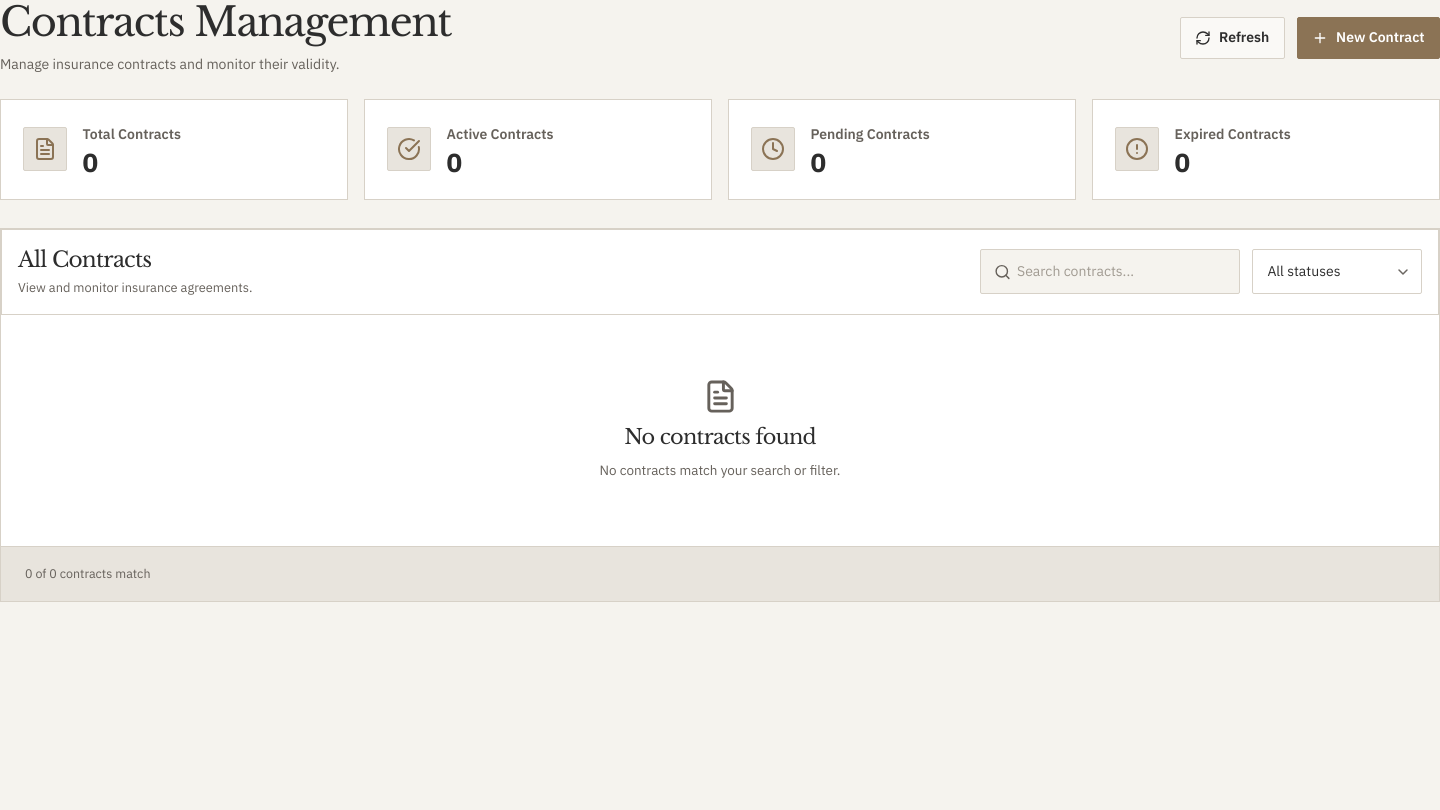
Scenario: an agent submits the new contract form and refreshes the list
Click the button "New Contract": [1368, 38] box [1297,17,1439,59]
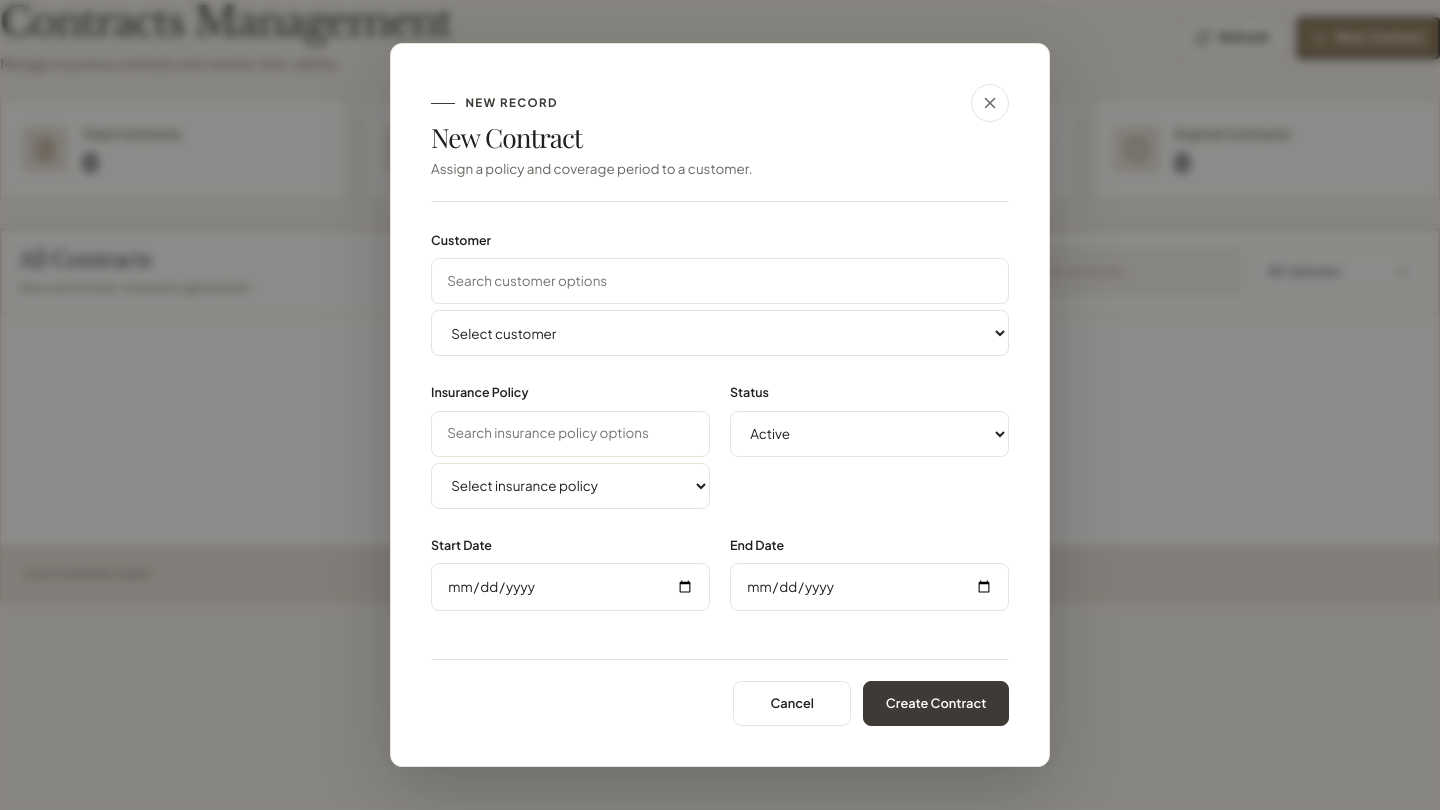
Select "Sam Martin (sam@example.test)" in the dropdown labelled "Customer": [720, 333] box [431,310,1009,356]
Select "Road cover — 500.00 MAD" in the dropdown labelled "Insurance Policy": [570, 486] box [431,463,710,509]
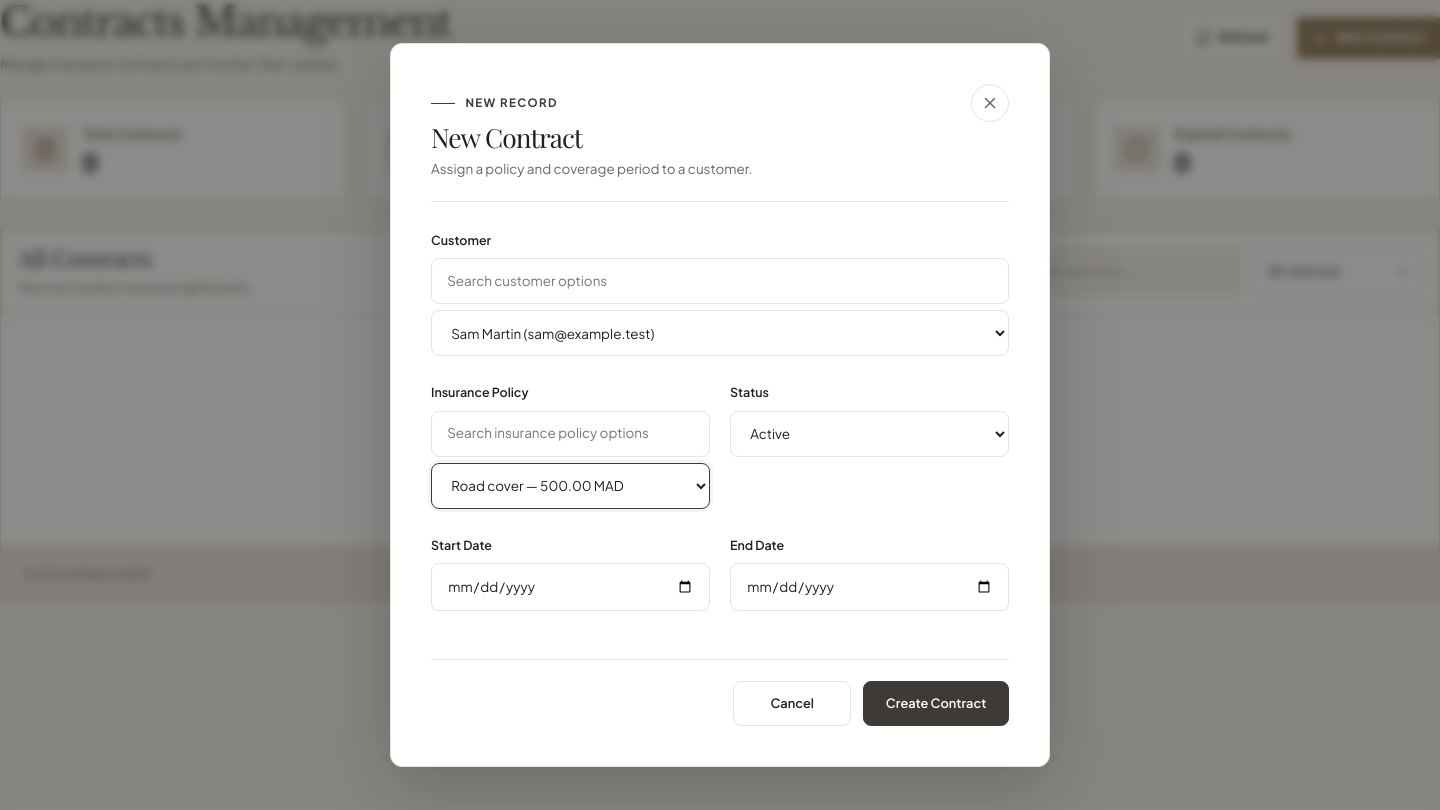
Select "Pending" in the dropdown labelled "Status": [870, 434] box [730,411,1009,457]
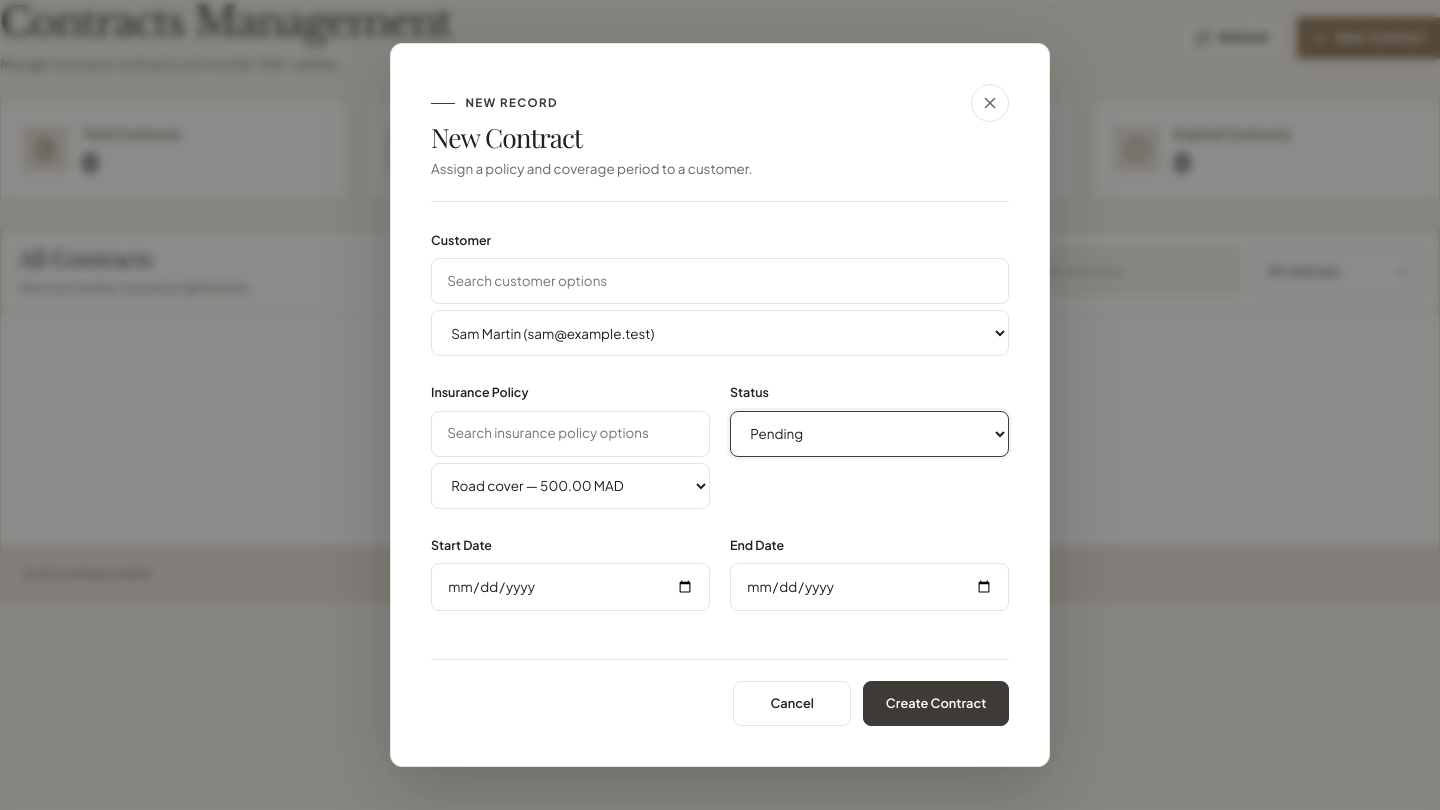
In the date field labelled "Start Date": [570, 587] box [431,563,710,611], type "2026-11-21"
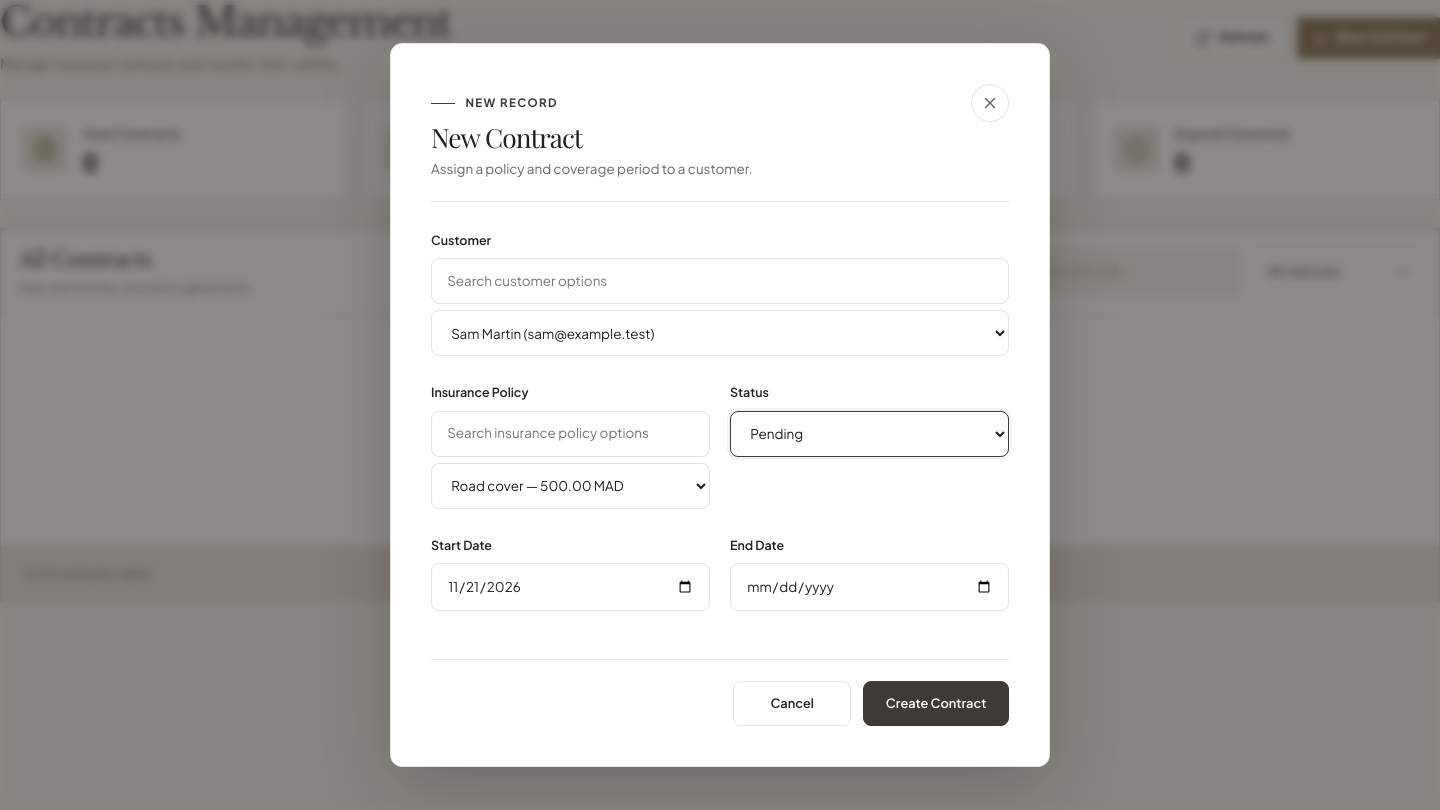
In the date field labelled "End Date": [870, 587] box [730,563,1009,611], type "2026-11-30"
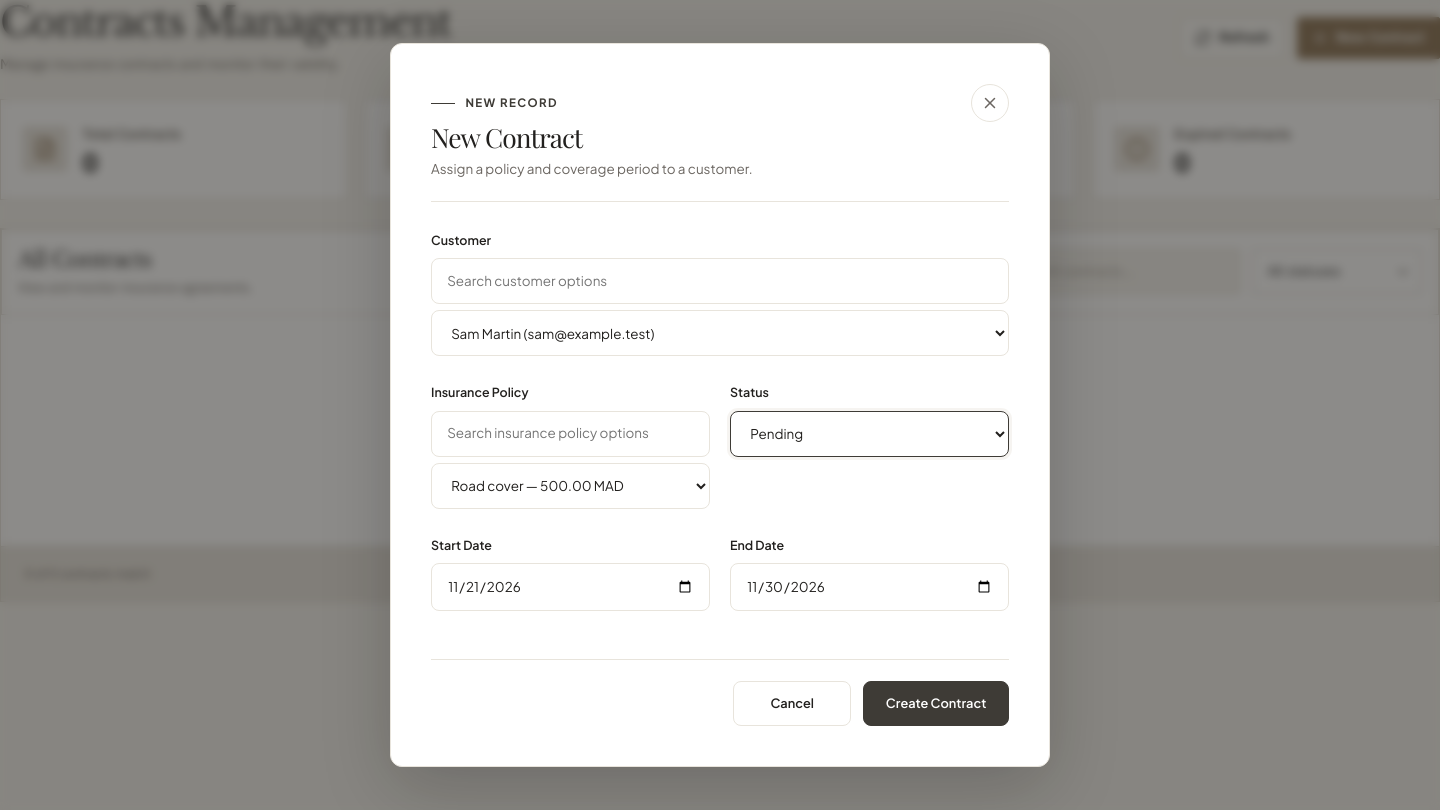
Click the button "Create Contract": [936, 704] box [863,681,1009,726]
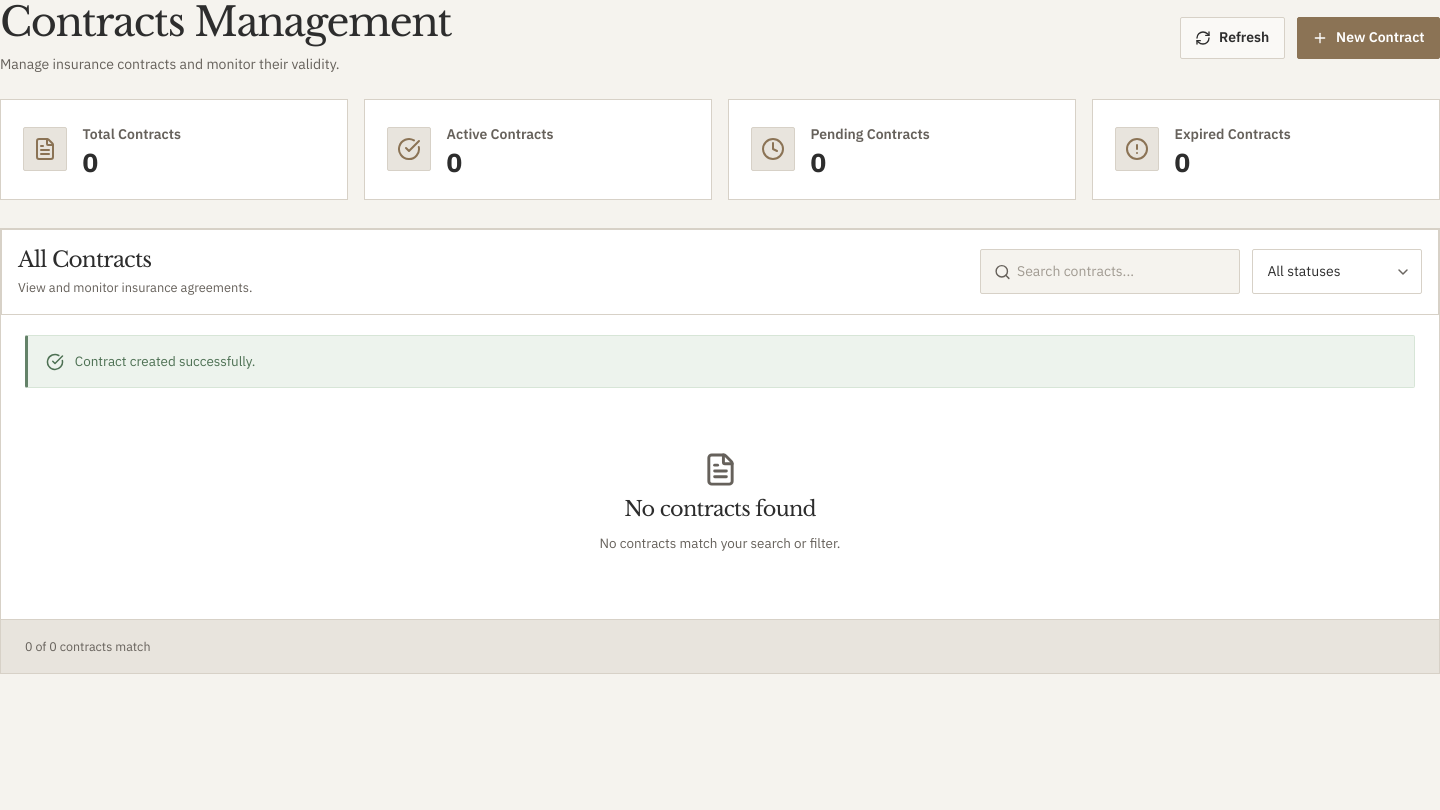
expect the text "Contract created successfully." is shown: met, box [25,335,1415,388]
expect the dialog is gone: met
